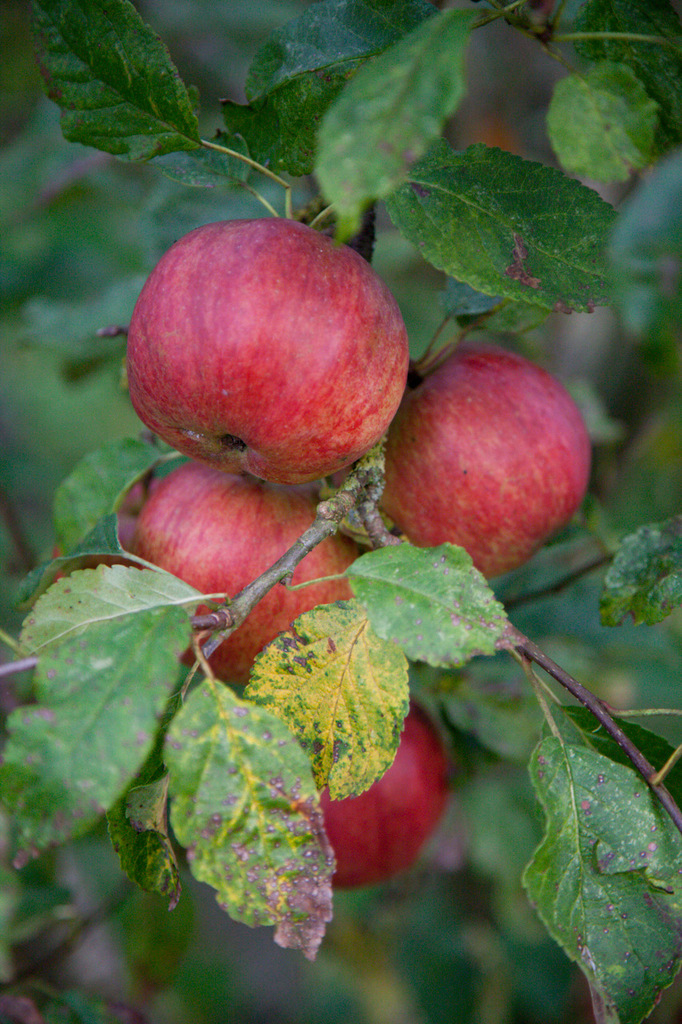Apple: (119, 200, 402, 478), (131, 460, 369, 682), (378, 342, 594, 579), (320, 697, 448, 886)
